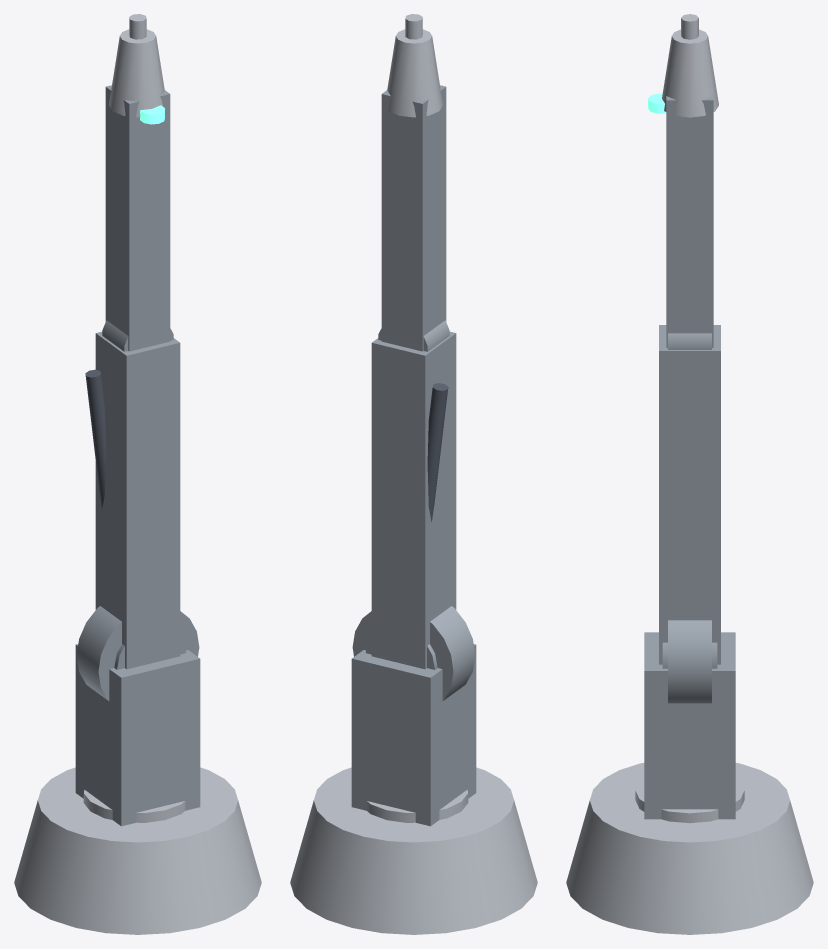
The model's file is robot-arm.glb.
The picture shows the model from 3 angles, left to right: view 1: azimuth 30°, elevation 25°; view 2: azimuth 150°, elevation 25°; view 3: azimuth 270°, elevation 25°; orthographic projection.
Visible parts, largest first — view 1: Base_Mesh, J2_Mesh, J1_Mesh, J3_Mesh, Tool_Mesh, Cable; view 2: Base_Mesh, J2_Mesh, J1_Mesh, J3_Mesh, Tool_Mesh, Cable; view 3: Base_Mesh, J2_Mesh, J1_Mesh, J3_Mesh, Tool_Mesh.
Part boxes in pixels (bbox=[...]): Base_Mesh: bbox=[14, 767, 261, 934]; J2_Mesh: bbox=[95, 331, 186, 669]; J1_Mesh: bbox=[75, 606, 200, 826]; J3_Mesh: bbox=[102, 85, 173, 351]; Tool_Mesh: bbox=[109, 14, 164, 117]; Cable: bbox=[85, 369, 105, 508]; Base_Mesh: bbox=[290, 767, 537, 934]; J2_Mesh: bbox=[365, 331, 456, 669]; J1_Mesh: bbox=[351, 606, 476, 826]; J3_Mesh: bbox=[378, 85, 449, 351]; Tool_Mesh: bbox=[387, 14, 442, 117]; Cable: bbox=[427, 383, 448, 521]; Base_Mesh: bbox=[566, 763, 813, 934]; J2_Mesh: bbox=[659, 325, 720, 668]; J1_Mesh: bbox=[644, 620, 735, 819]; J3_Mesh: bbox=[666, 96, 713, 349]; Tool_Mesh: bbox=[662, 14, 718, 117].
Size of the model in its own units: 1.36 by 5.24 by 1.36.
